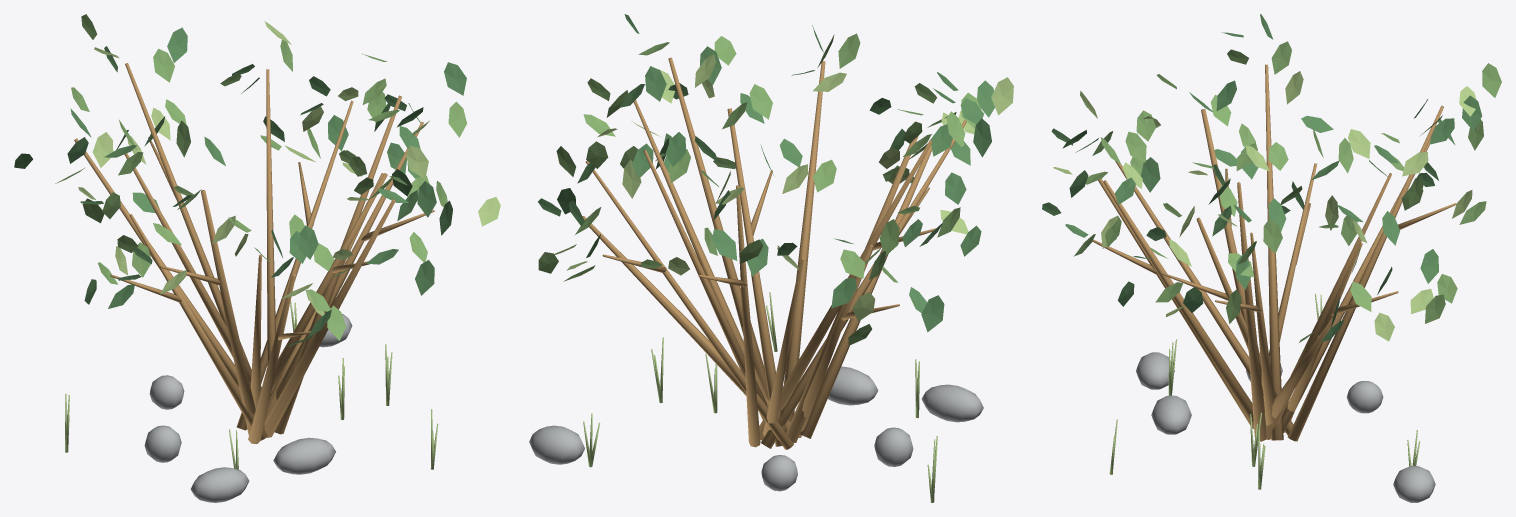
File: forest_shrub_b.glb
The picture shows the model from 3 angles, left to right: view 1: azimuth 30°, elevation 25°; view 2: azimuth 150°, elevation 25°; view 3: azimuth 270°, elevation 25°; orthographic projection. The views are drawn at different scales.
Parts seen in each view (by area): view 1: forest_shrub_b_stem_11, forest_shrub_b_stem_8, forest_shrub_b_stem_3, forest_shrub_ground_rock_2, forest_shrub_b_stem_4, forest_shrub_b_stem_6, forest_shrub_b_stem_13, forest_shrub_ground_rock_1, forest_shrub_b_stem_10, forest_shrub_b_stem_12, forest_shrub_b_stem_7, forest_shrub_b_stem_5 (+6 smaller); view 2: forest_shrub_b_stem_11, forest_shrub_b_stem_2, forest_shrub_b_stem_12, forest_shrub_b_stem_13, forest_shrub_b_stem_7, forest_shrub_b_stem_10, forest_shrub_b_stem_4, forest_shrub_b_stem_0, forest_shrub_b_stem_1, forest_shrub_b_stem_9, forest_shrub_b_stem_3, forest_shrub_ground_rock_1 (+11 smaller); view 3: forest_shrub_b_stem_7, forest_shrub_b_stem_4, forest_shrub_b_stem_11, forest_shrub_b_stem_13, forest_shrub_b_stem_9, forest_shrub_b_stem_3, forest_shrub_b_stem_0, forest_shrub_ground_rock_2, forest_shrub_ground_rock_3, forest_shrub_b_stem_5, forest_shrub_ground_rock_1, forest_shrub_b_stem_6 (+6 smaller).
Part boxes in pixels (<box>): forest_shrub_b_stem_11: <box>264,199,395,437</box>; forest_shrub_b_stem_8: <box>201,190,255,434</box>; forest_shrub_b_stem_3: <box>266,69,275,393</box>; forest_shrub_ground_rock_2: <box>273,437,335,474</box>; forest_shrub_b_stem_4: <box>125,63,250,367</box>; forest_shrub_b_stem_6: <box>129,214,267,440</box>; forest_shrub_b_stem_13: <box>274,95,401,434</box>; forest_shrub_ground_rock_1: <box>190,467,249,502</box>; forest_shrub_b_stem_10: <box>248,273,295,443</box>; forest_shrub_b_stem_12: <box>246,173,387,429</box>; forest_shrub_b_stem_7: <box>124,153,261,392</box>; forest_shrub_b_stem_5: <box>74,138,239,388</box>; forest_shrub_b_stem_11: <box>784,61,825,421</box>; forest_shrub_b_stem_2: <box>585,161,793,449</box>; forest_shrub_b_stem_12: <box>727,108,785,446</box>; forest_shrub_b_stem_13: <box>668,57,768,396</box>; forest_shrub_b_stem_7: <box>759,140,932,440</box>; forest_shrub_b_stem_10: <box>800,135,933,438</box>; forest_shrub_b_stem_4: <box>736,185,760,447</box>; forest_shrub_b_stem_0: <box>633,100,768,399</box>; forest_shrub_b_stem_1: <box>583,216,800,433</box>; forest_shrub_b_stem_9: <box>760,120,966,448</box>; forest_shrub_b_stem_3: <box>643,150,767,419</box>; forest_shrub_ground_rock_1: <box>921,384,983,422</box>; forest_shrub_b_stem_7: <box>1265,64,1283,440</box>; forest_shrub_b_stem_4: <box>1287,105,1443,441</box>; forest_shrub_b_stem_11: <box>1103,180,1254,429</box>; forest_shrub_b_stem_13: <box>1237,182,1266,441</box>; forest_shrub_b_stem_9: <box>1115,161,1293,435</box>; forest_shrub_b_stem_3: <box>1266,173,1391,439</box>; forest_shrub_b_stem_0: <box>1250,232,1275,425</box>; forest_shrub_ground_rock_2: <box>1151,395,1191,434</box>; forest_shrub_ground_rock_3: <box>1393,466,1435,502</box>; forest_shrub_b_stem_5: <box>1282,138,1430,433</box>; forest_shrub_ground_rock_1: <box>1136,352,1174,389</box>; forest_shrub_b_stem_6: <box>1252,163,1317,428</box>.
Bounding box in the file's own units: 1.05 × 0.9103 × 1.1.
